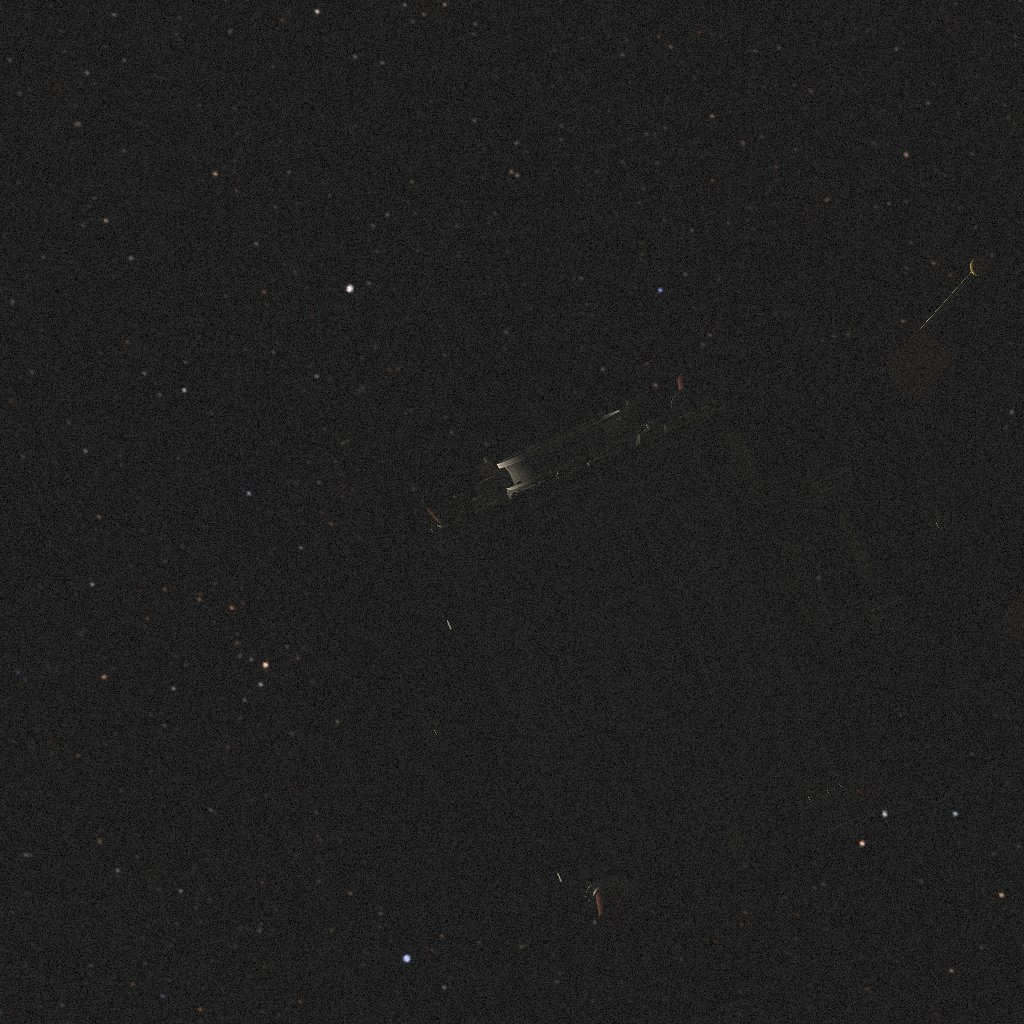proba_2: (401, 317, 1002, 939)
